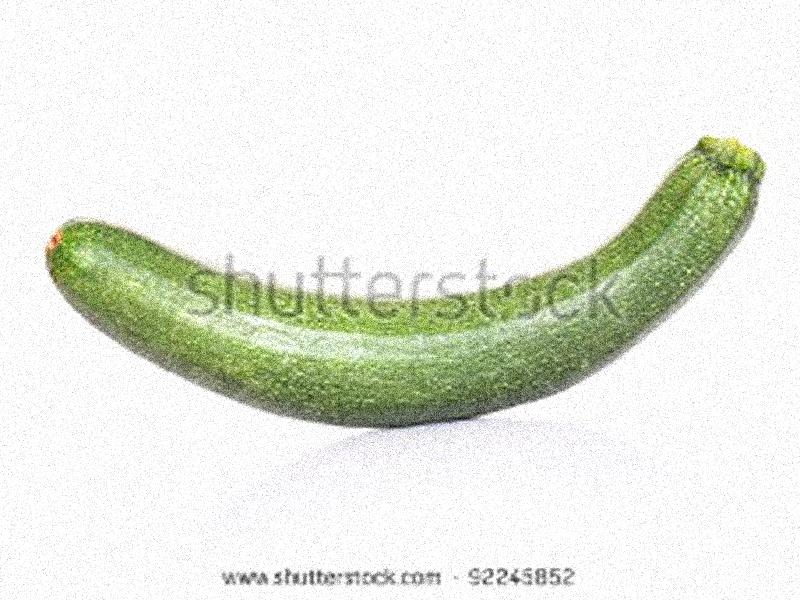Cucumber: (46, 135, 761, 426)
